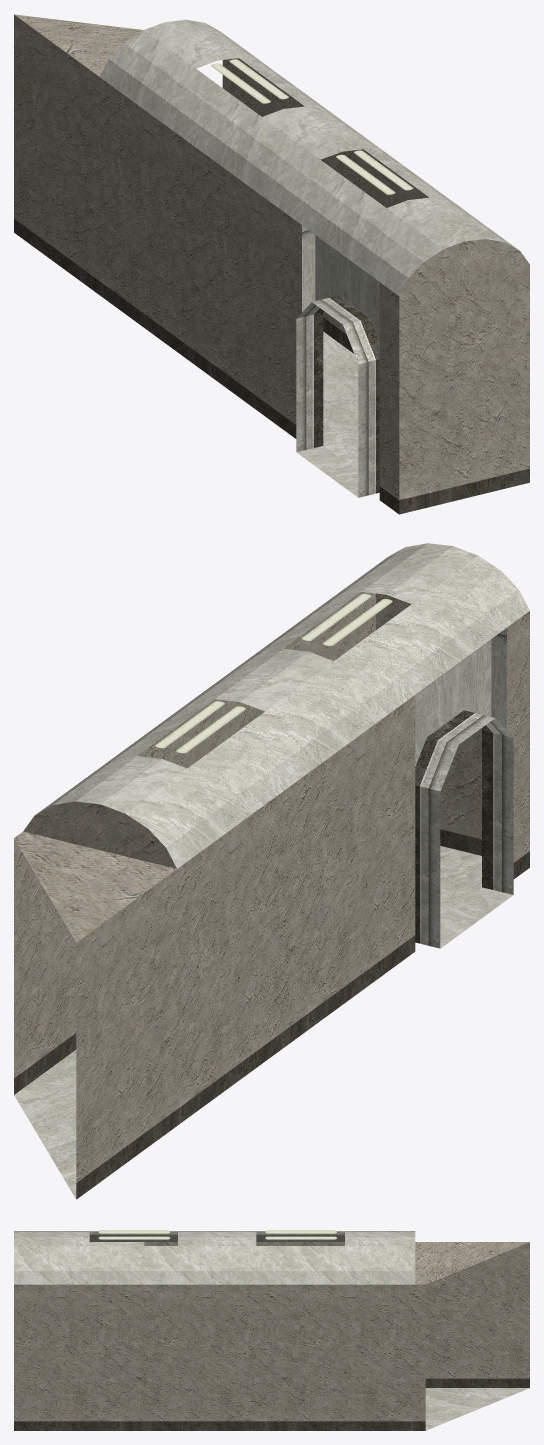
Rendered from ply_nboo_assoc_hall_civ_s01_r5_hallb_mesh_r5.fbx.
3 views of the same model, one above another, from view 1: azimuth 30°, elevation 25°; view 2: azimuth 150°, elevation 25°; view 3: azimuth 270°, elevation 25° (orthographic). The views are drawn at different scales.
Visible parts, largest first — view 1: mesh_node; view 2: mesh_node; view 3: mesh_node.
Part boxes in pixels (x1,y1,x2,y2): mesh_node: [14, 14, 529, 514]; mesh_node: [14, 543, 529, 1199]; mesh_node: [14, 1230, 529, 1430].
Bounding box in the file's own units: 2.68 × 4.61 × 12.38.
